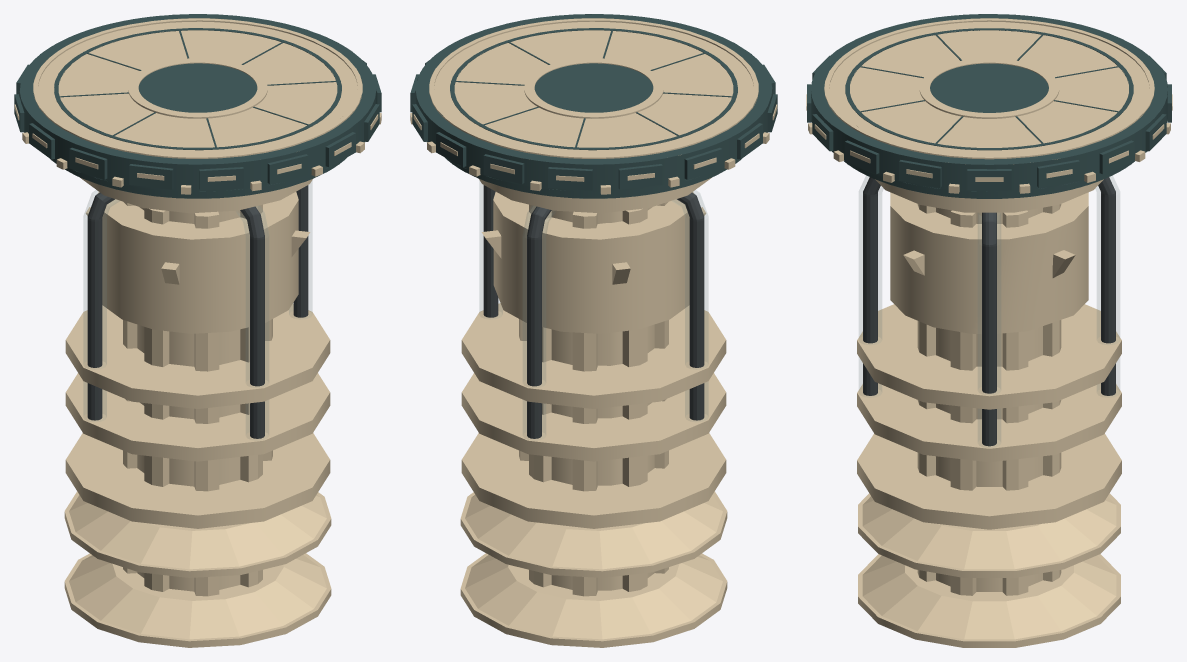
The model's file is Platform_Pillar_lab2.glb.
3 renders of one model, left to right at view 1: azimuth 30°, elevation 25°; view 2: azimuth 150°, elevation 25°; view 3: azimuth 270°, elevation 25°, orthographic.
Parts seen in each view (by area): view 1: Platform_Pillar; view 2: Platform_Pillar; view 3: Platform_Pillar.
Boxes of the visible parts, x1,y1,x2,y2 form: Platform_Pillar: [14, 14, 381, 647]; Platform_Pillar: [410, 14, 777, 647]; Platform_Pillar: [806, 14, 1172, 647].
Size of the model in its own units: 12.32 by 18.71 by 12.32.
